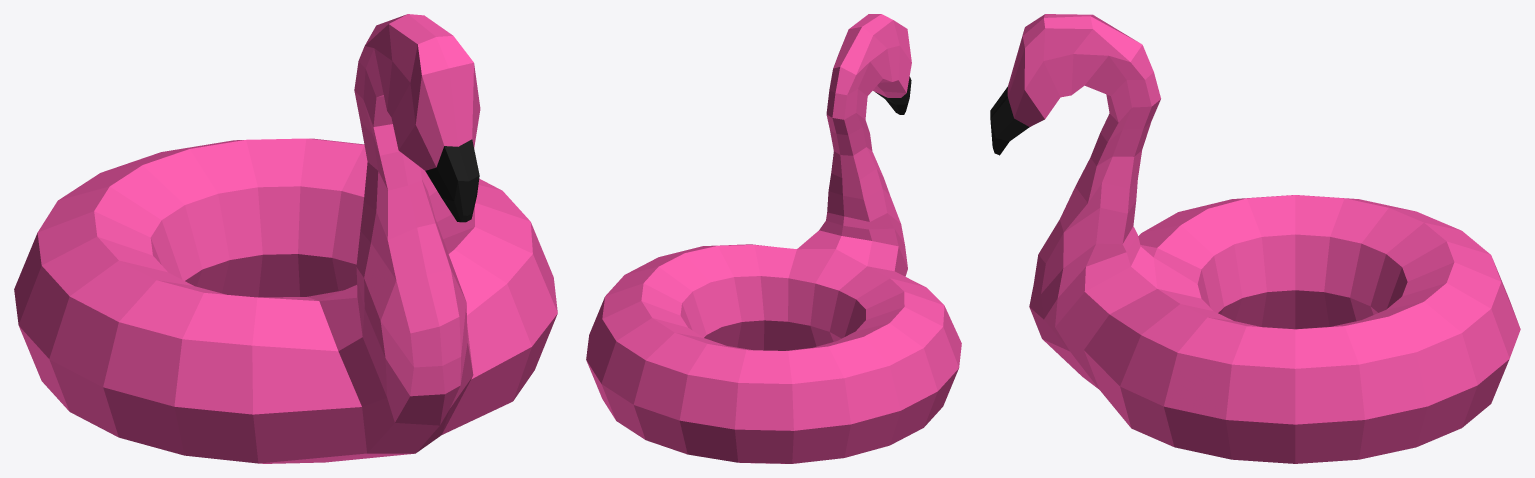
The picture shows the model from 3 angles, left to right: view 1: azimuth 30°, elevation 25°; view 2: azimuth 150°, elevation 25°; view 3: azimuth 270°, elevation 25°; orthographic projection. The views are drawn at different scales.
Parts seen in each view (by area): view 1: Circle_01; view 2: Circle_01; view 3: Circle_01.
Part boxes in pixels (x1=…): Circle_01: x1=14, y1=14, x2=557, y2=463; Circle_01: x1=586, y1=14, x2=961, y2=463; Circle_01: x1=990, y1=14, x2=1520, y2=463.
Size of the model in its own units: 104 by 96.81 by 122.
